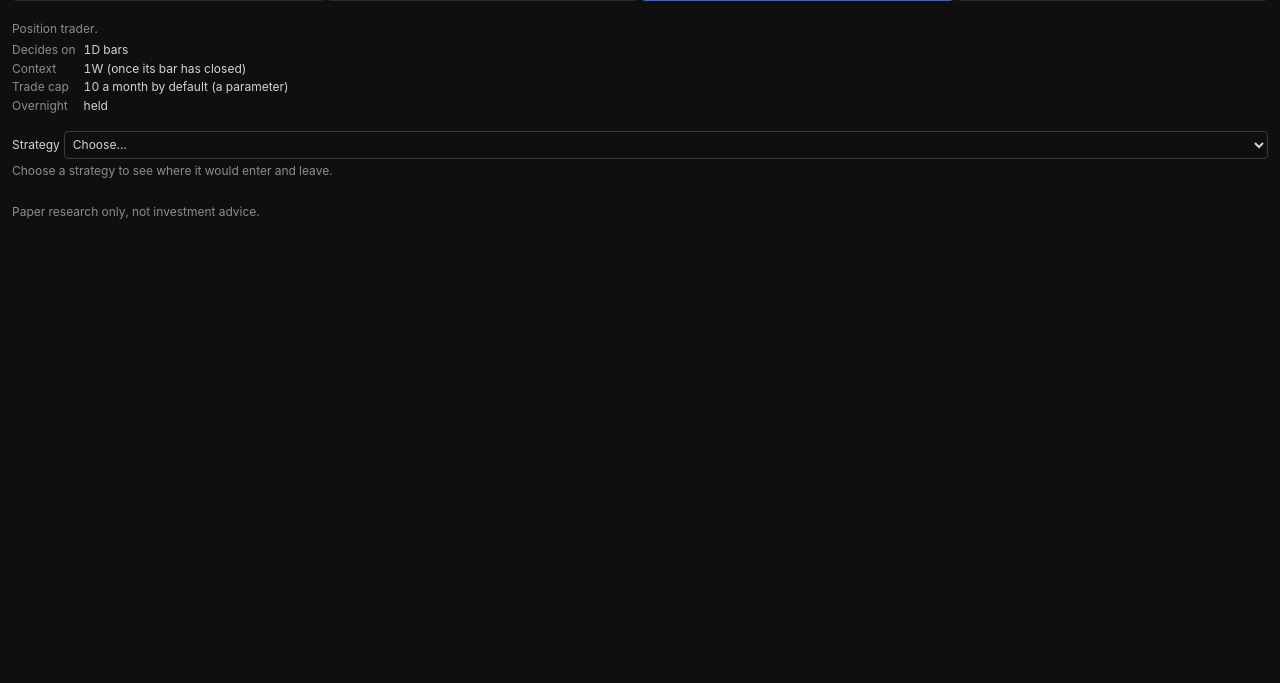
Test: StrategyPanel › shows the profile, an example strategy and its signals
The image size is (1280, 683).
Expected: the text "10 a month by default (a parameter)" is shown, [84, 79, 289, 94]
Select "Example: cross" in the dropdown labelled "Strategy" at (666, 145), box [64, 131, 1268, 159]
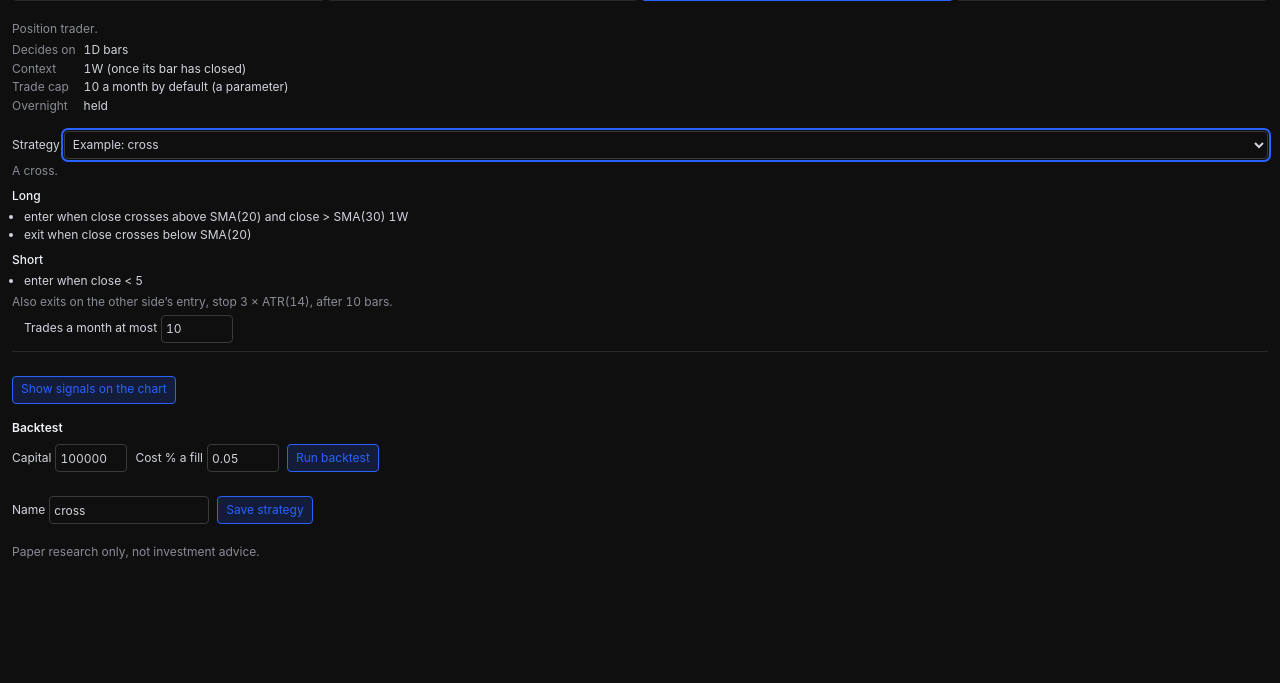
Result: the list named "Long rules" shows "enter when close crosses above SMA(20) and close > SMA(30) 1W" at [24, 209, 408, 224]
Result: the list named "Long rules" shows "exit when close crosses below SMA(20)" at [24, 227, 252, 242]
Click the button "Show signals on the chart" at (94, 390), box [12, 376, 176, 404]
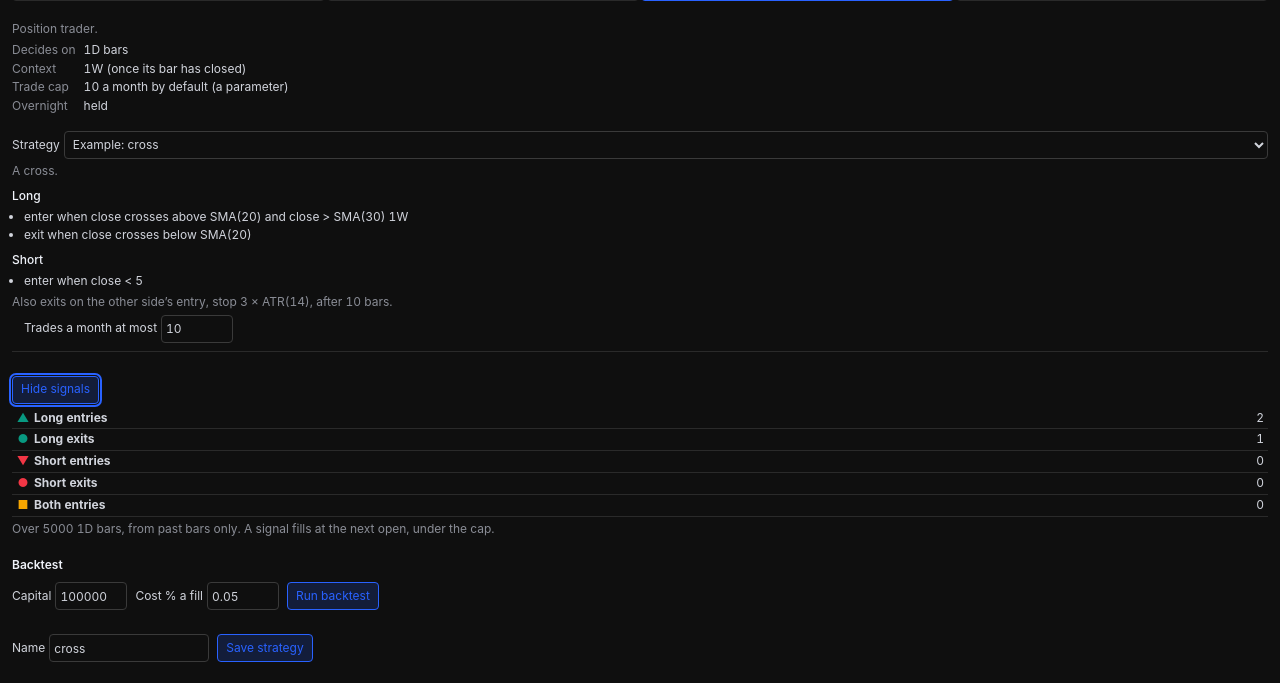
Result: the row "▲ Long entries 2" is shown at [12, 408, 1268, 429]
Result: the row "● Long exits 1" is shown at [12, 429, 1268, 451]
Replace the text in the field labelled "Name" with "My cross" at (129, 648), box [49, 634, 209, 662]
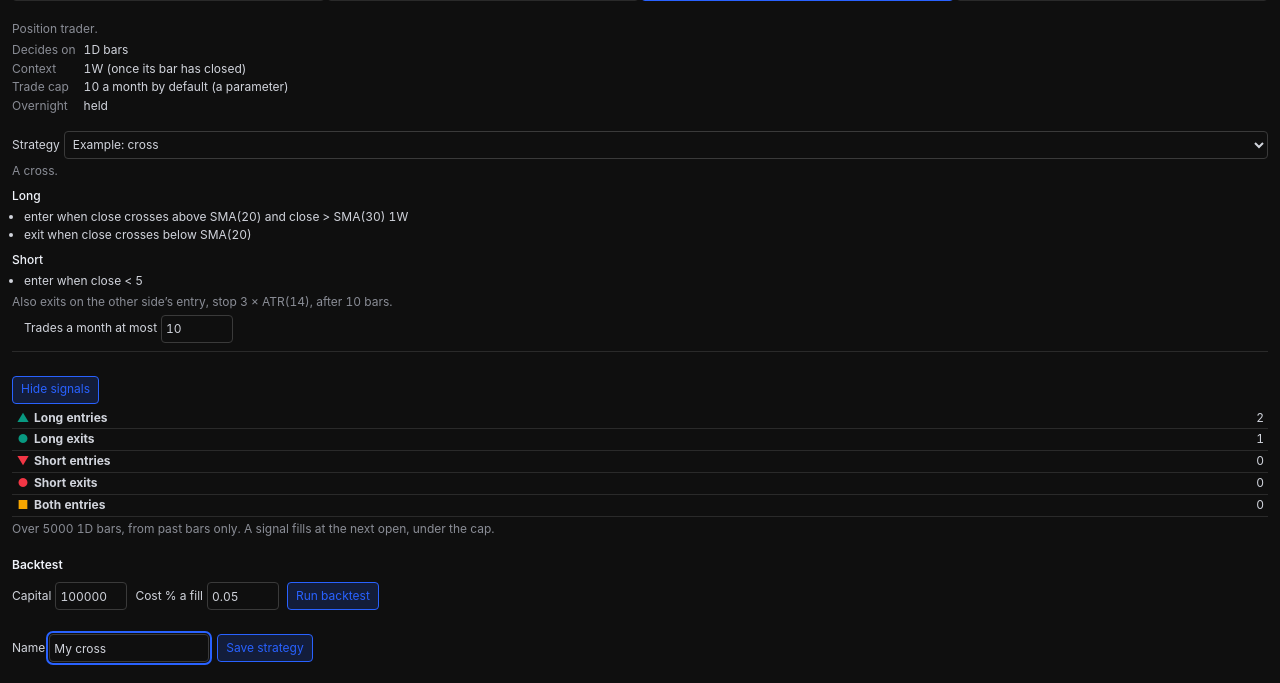
Click the button "Save strategy" at (265, 648), box [217, 634, 313, 662]
(page scrolled)
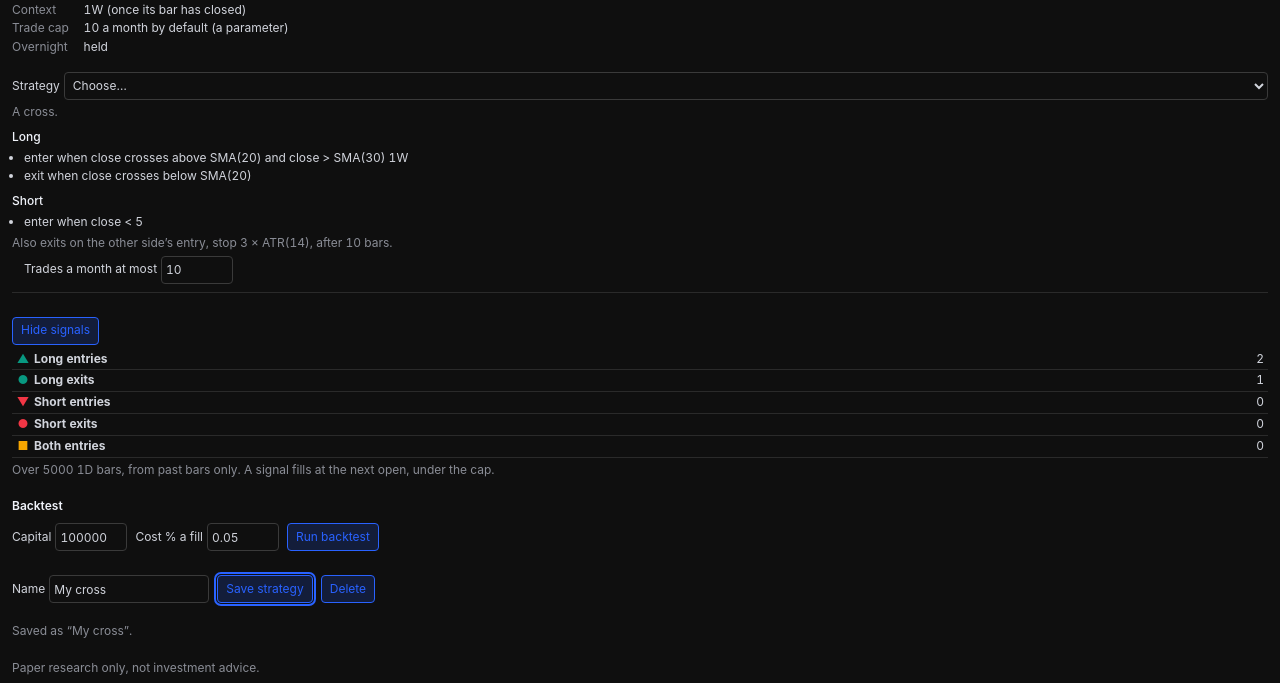
Result: the text "Saved as “My cross”." is shown at [12, 623, 132, 638]
